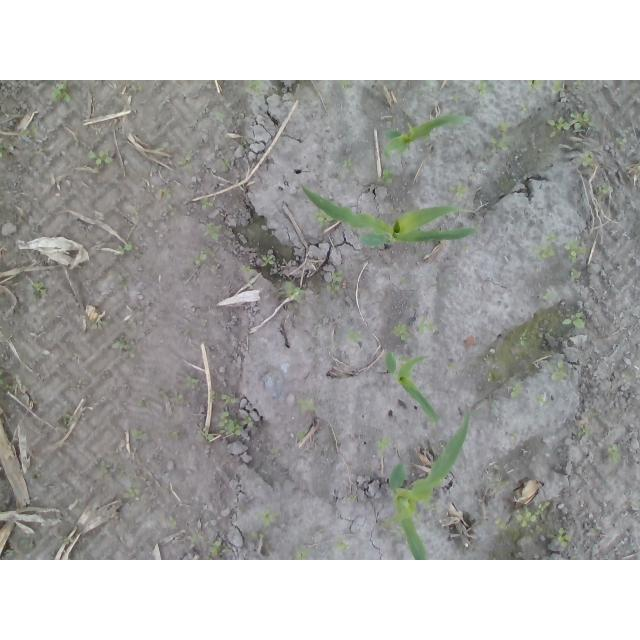Maize: (301, 181, 480, 248), (388, 411, 470, 557), (384, 349, 440, 426), (383, 113, 474, 155)
Weeds: (494, 502, 547, 535), (536, 233, 586, 263), (547, 111, 593, 137), (392, 320, 432, 340), (489, 120, 512, 152), (217, 411, 243, 436), (51, 82, 74, 107), (527, 81, 562, 96), (560, 310, 585, 330), (87, 149, 114, 167), (550, 528, 572, 547), (325, 272, 343, 295), (552, 357, 568, 382), (245, 80, 265, 98), (284, 281, 304, 299), (607, 445, 622, 466), (208, 223, 225, 241), (314, 210, 332, 227), (381, 169, 399, 186), (298, 398, 317, 414), (475, 80, 494, 96), (519, 327, 530, 353), (260, 510, 274, 530), (294, 544, 310, 561), (32, 281, 49, 297), (376, 436, 393, 451), (118, 242, 134, 257), (510, 382, 525, 398), (579, 152, 594, 168), (448, 183, 464, 198), (132, 430, 149, 444), (50, 175, 64, 192), (183, 374, 197, 390), (111, 339, 129, 350), (392, 527, 405, 542), (599, 184, 614, 197), (571, 80, 583, 96), (176, 154, 192, 166), (343, 329, 359, 341), (58, 414, 75, 425), (209, 543, 223, 556), (194, 251, 206, 266), (221, 393, 235, 405), (336, 539, 351, 550), (100, 462, 113, 474), (200, 430, 212, 443), (167, 515, 177, 530), (128, 487, 141, 498), (535, 393, 546, 406), (570, 270, 583, 281), (487, 371, 498, 383), (520, 103, 531, 115), (262, 255, 274, 266), (202, 200, 215, 209), (243, 416, 253, 427), (615, 135, 625, 146), (339, 80, 351, 89), (542, 292, 554, 301), (251, 532, 266, 539), (580, 423, 590, 433), (193, 534, 202, 545), (297, 432, 308, 441), (495, 479, 509, 486), (240, 266, 253, 273), (449, 97, 460, 104), (96, 320, 104, 329), (168, 431, 177, 439), (270, 447, 280, 454), (0, 367, 4, 384), (0, 143, 4, 160), (166, 192, 174, 200), (344, 161, 353, 168), (448, 362, 457, 369), (217, 112, 225, 119), (223, 160, 230, 168), (176, 395, 183, 402), (592, 528, 601, 533)
